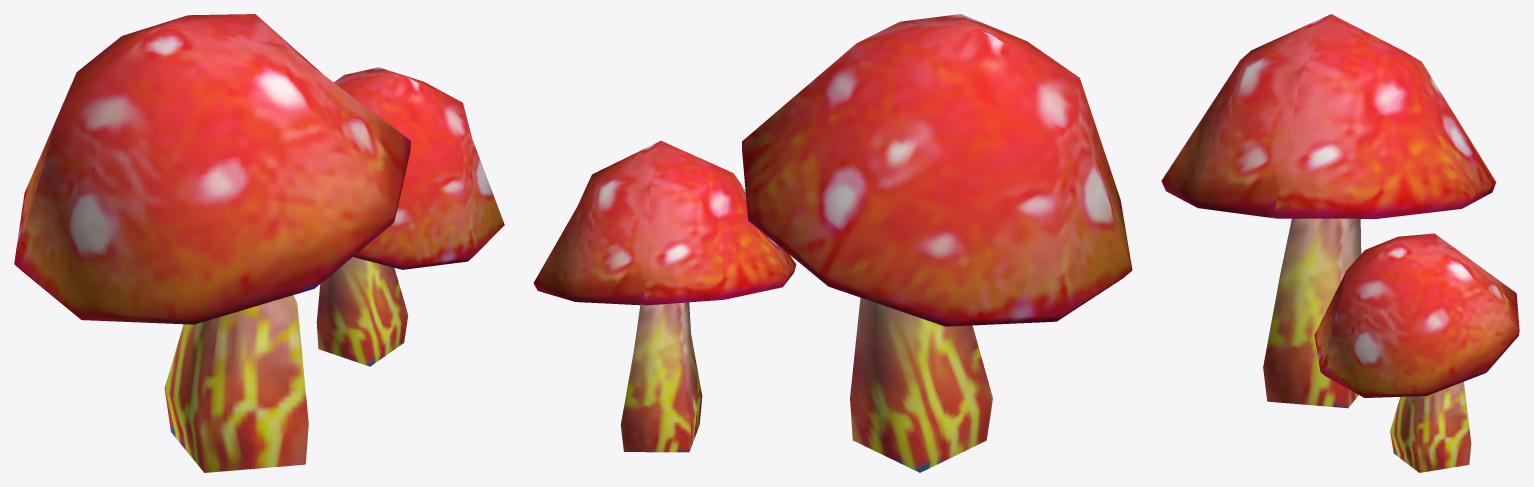
File: F01_mushroom03.FBX
The picture shows the model from 3 angles, left to right: view 1: azimuth 30°, elevation 25°; view 2: azimuth 150°, elevation 25°; view 3: azimuth 270°, elevation 25°; orthographic projection. The views are drawn at different scales.
Visible parts, largest first — view 1: F01_mushroom01; view 2: F01_mushroom01; view 3: F01_mushroom01.
Boxes of the visible parts, x1,y1,x2,y2 form: F01_mushroom01: (14, 14, 504, 472); F01_mushroom01: (533, 14, 1132, 472); F01_mushroom01: (1161, 14, 1519, 472).
Size of the model in its own units: 123 by 102 by 95.11.
